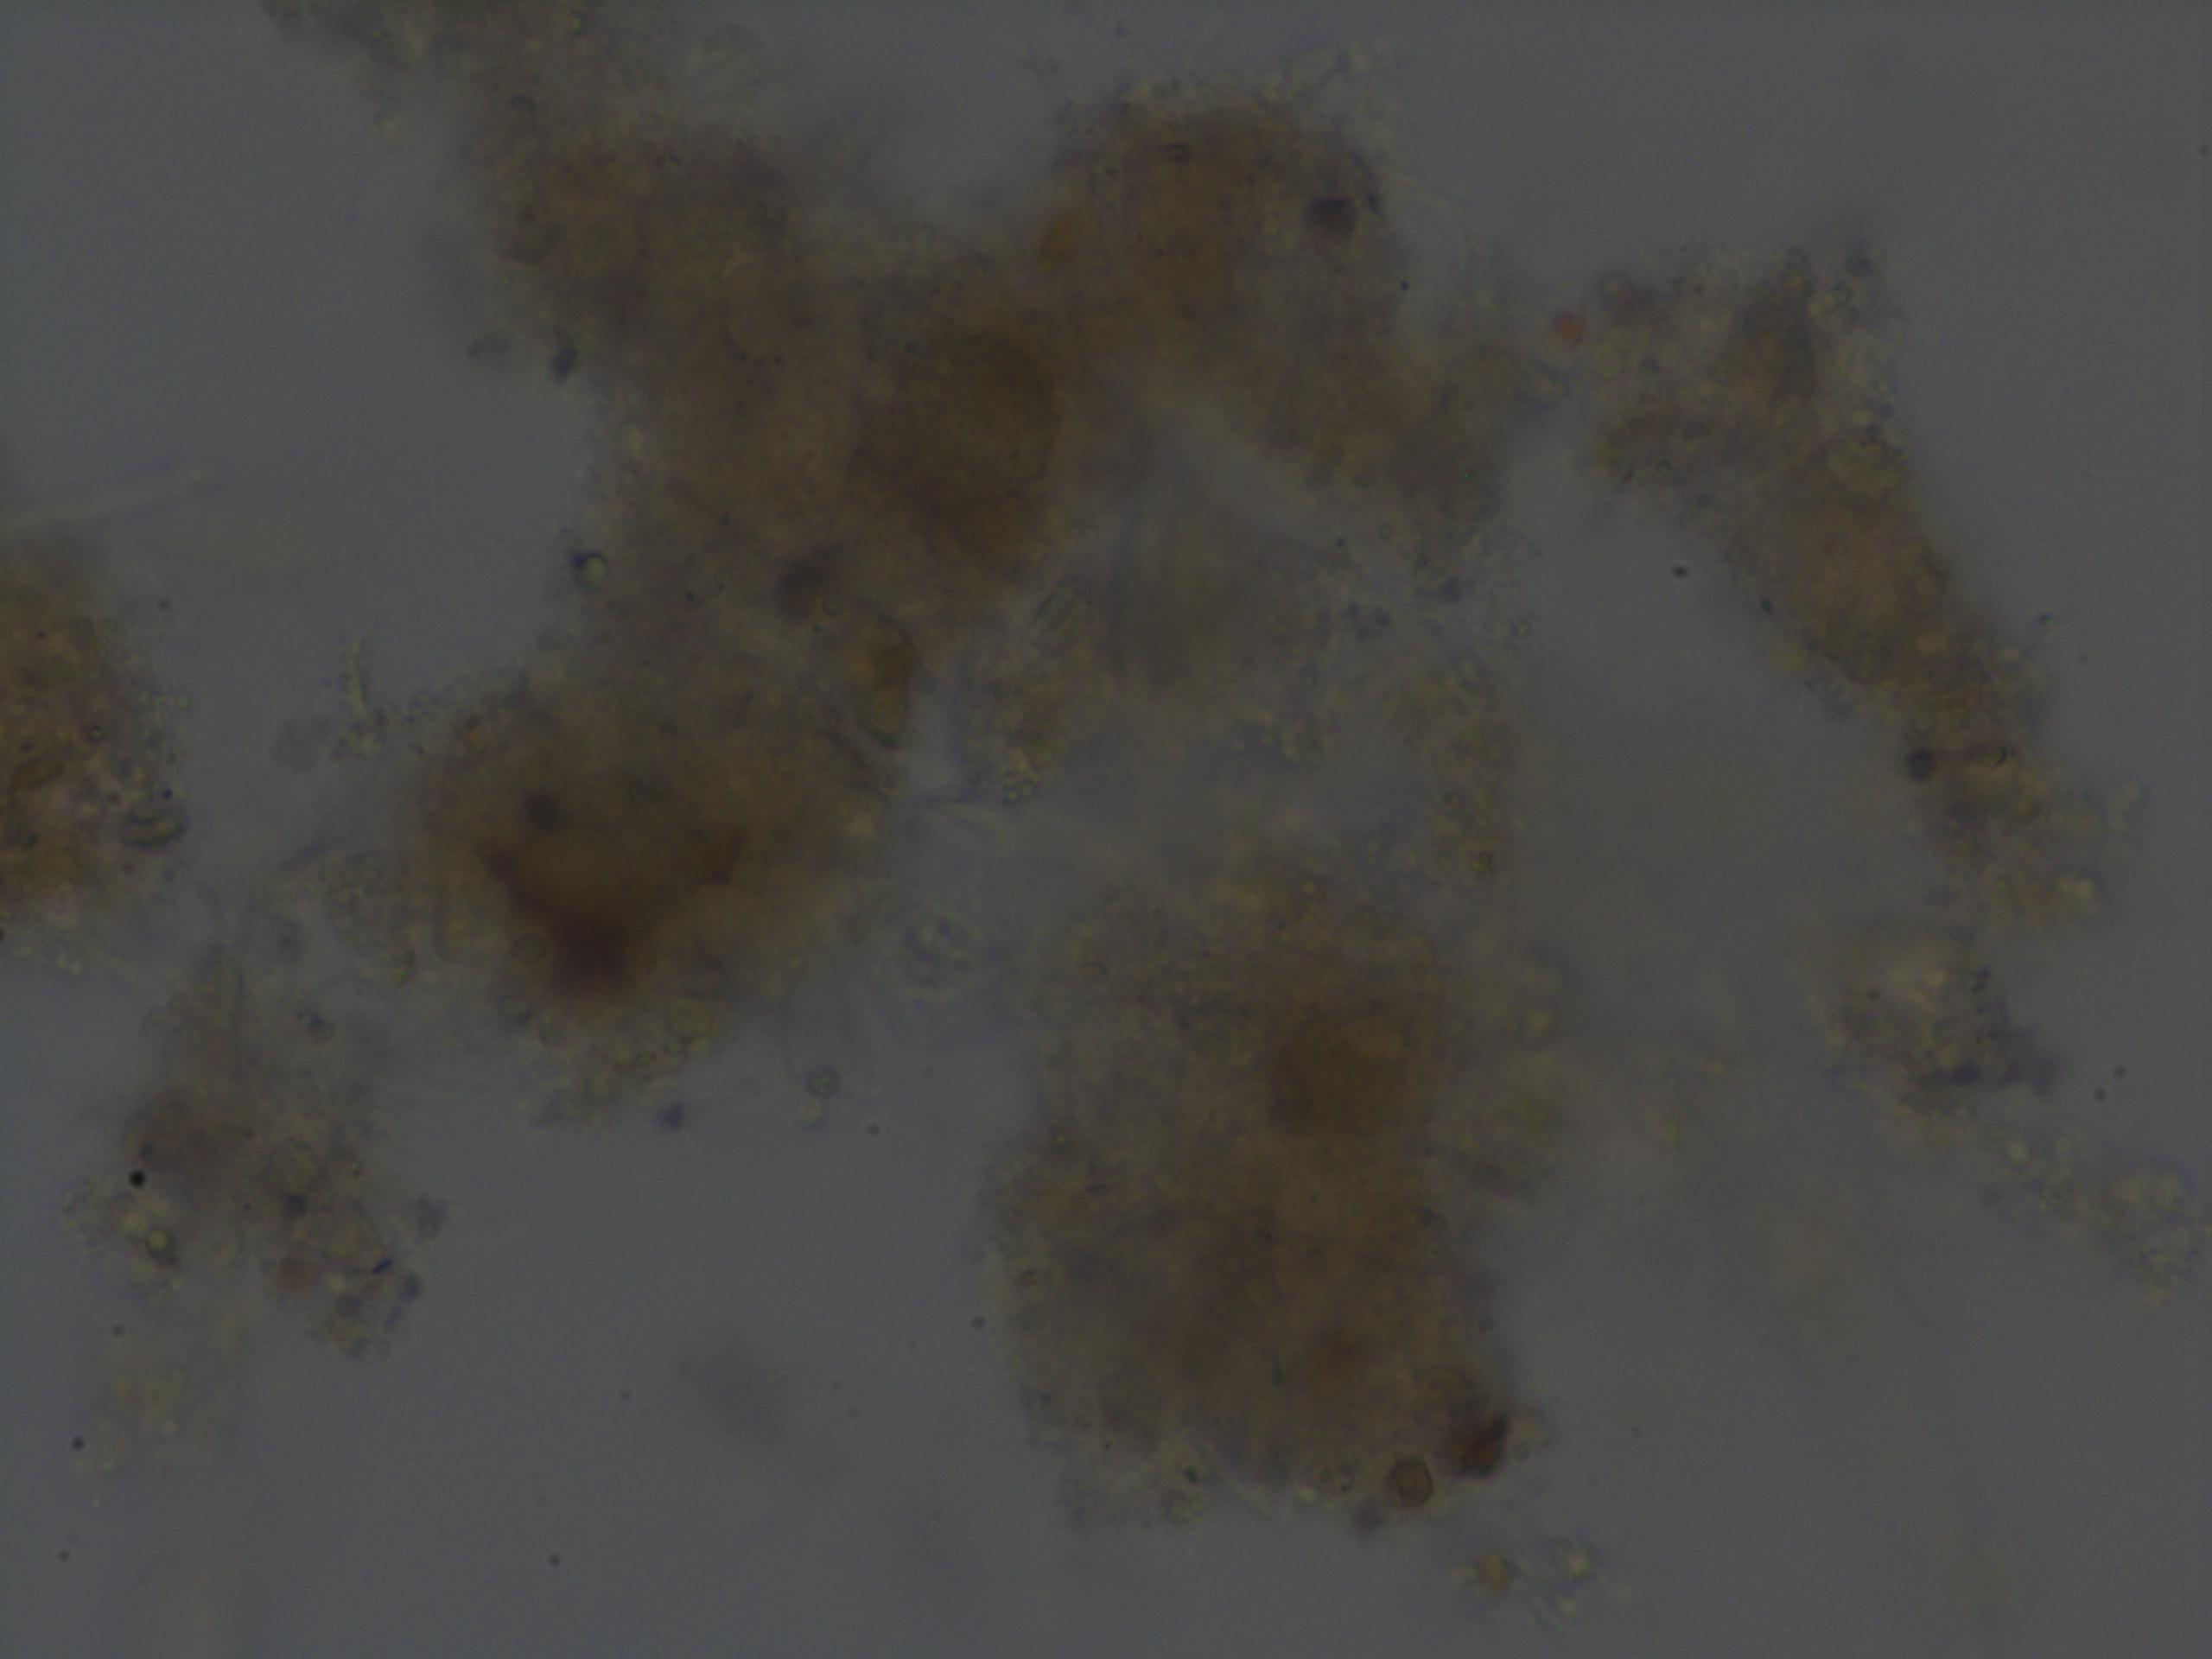open_floc: (0, 0, 2212, 1535)
